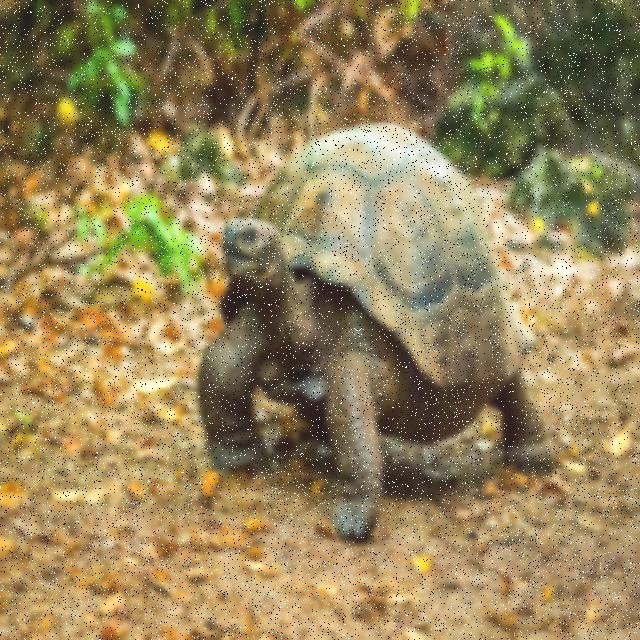tortoise: (192, 111, 570, 547)
